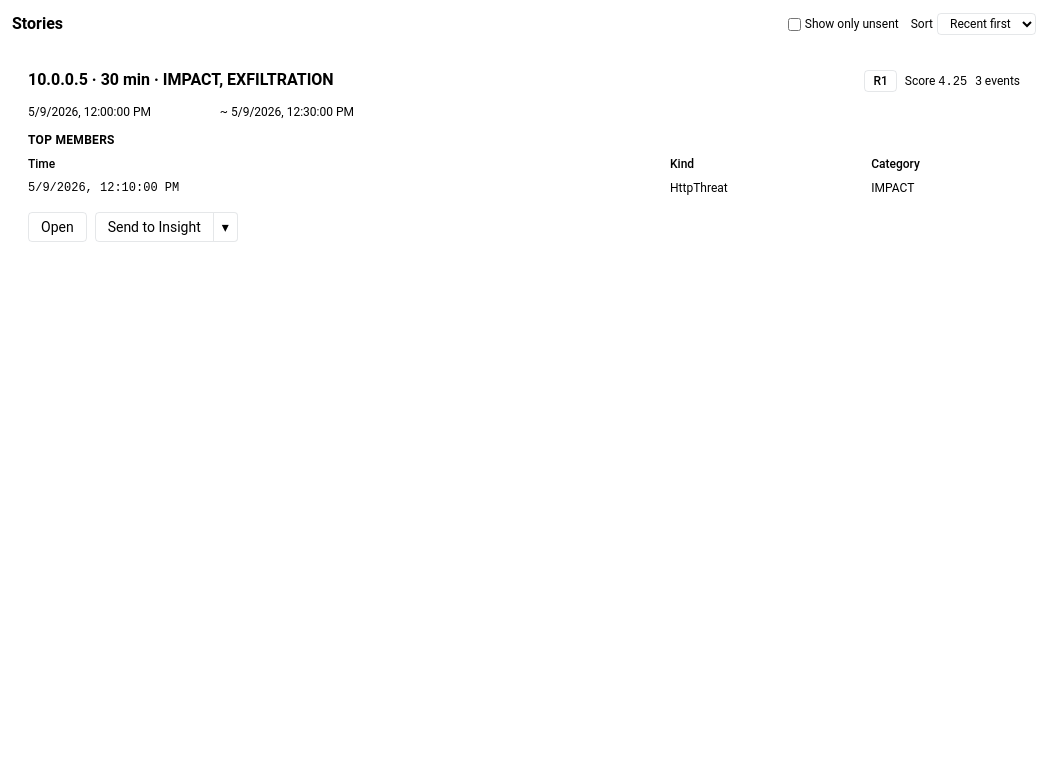
TriageStoriesView — manual Send wiring (#493) › on failure: shows the error toast carrying the structured code, β untouched
Click the button with test id "triage-story-send" at (154, 227), box [95,212,214,242]
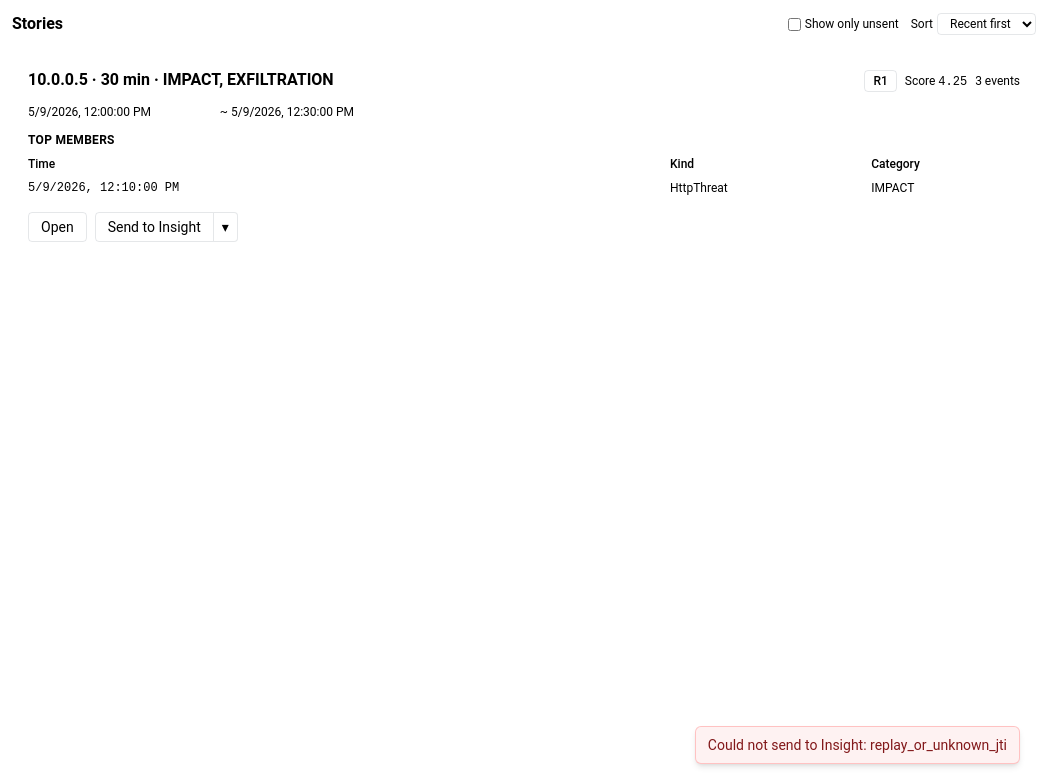
Expected: the message "Could not send to Insight: replay_or_unknown_jti" is shown, [695,726,1020,764]
Expected: the message with test id "triage-story-send-toast-error" shows "replay_or_unknown_jti", [708,737,1007,753]
